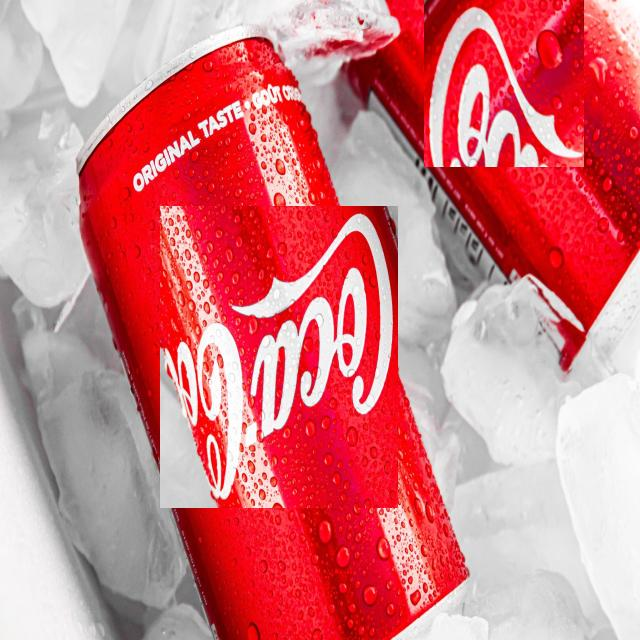coca-cola: (160, 206, 398, 508), (424, 0, 584, 167)
